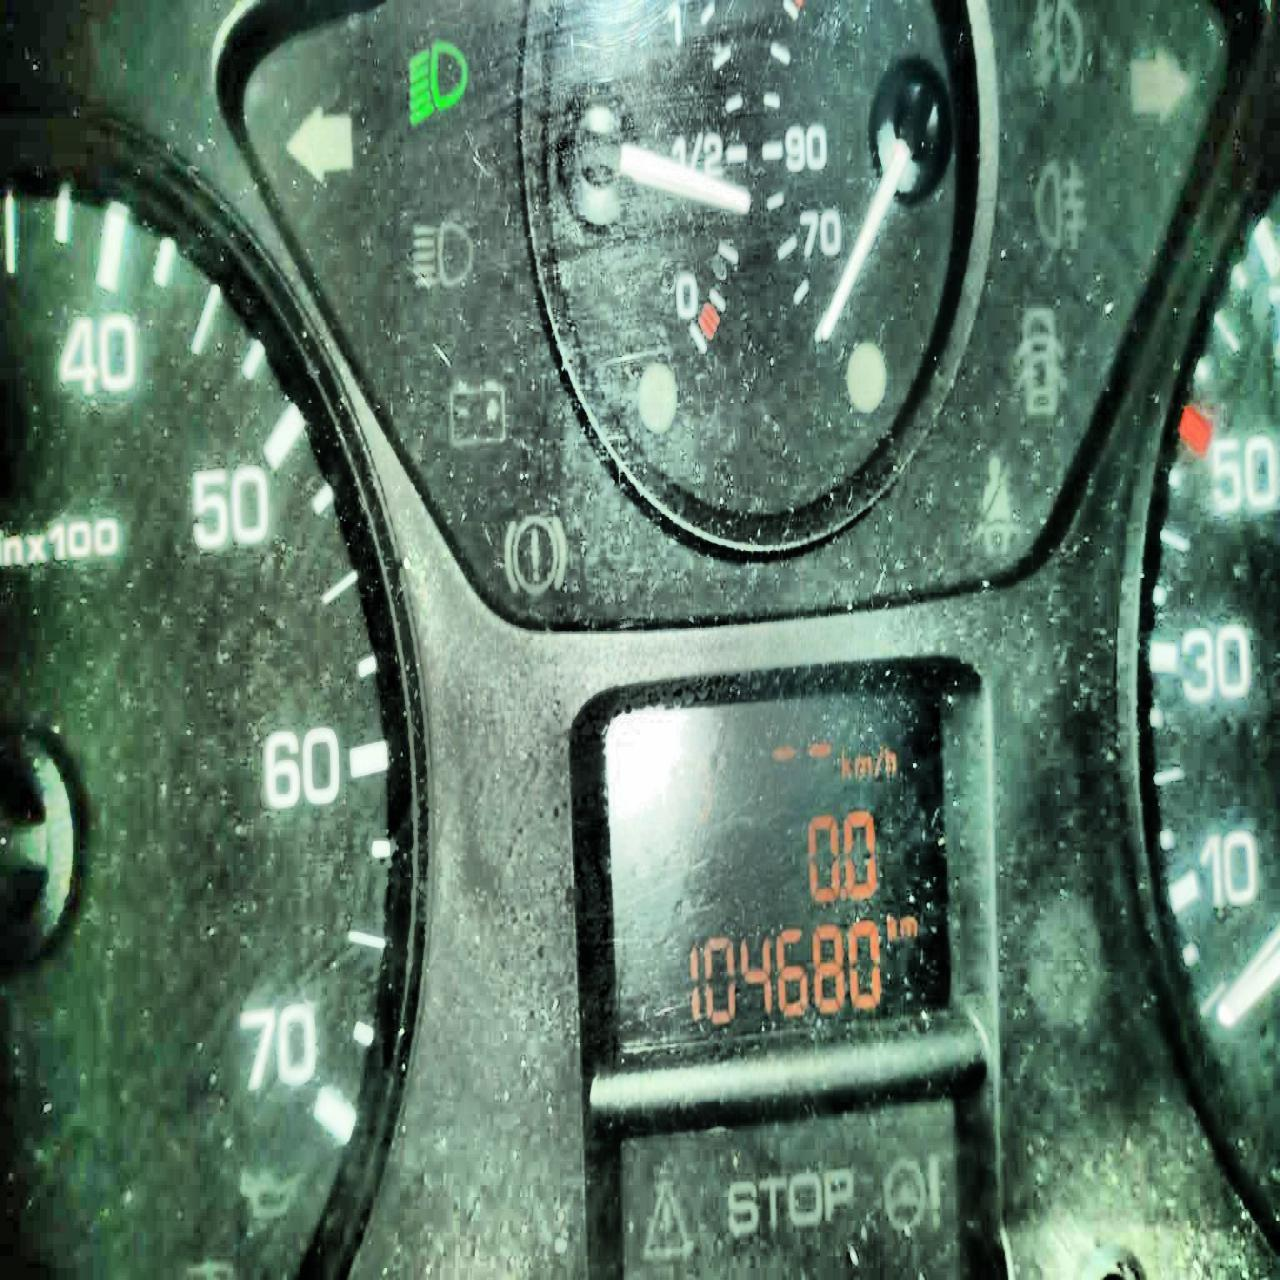-: (839, 887, 846, 903)
0: (847, 918, 881, 1009), (703, 933, 736, 1023), (806, 813, 839, 900), (843, 812, 876, 899)
1: (688, 942, 700, 1024)
4: (738, 932, 771, 1017)
6: (775, 926, 808, 1017)
8: (812, 922, 843, 1015)
X: (884, 741, 899, 778), (853, 754, 872, 781), (899, 912, 917, 938), (840, 747, 852, 779), (885, 911, 898, 938), (874, 747, 884, 781)
odometer: (601, 675, 959, 1055)
